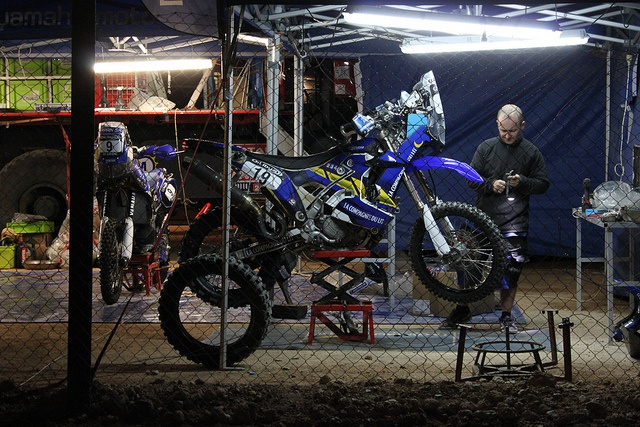non-vehicle: (177, 73, 508, 309), (93, 121, 181, 306)
